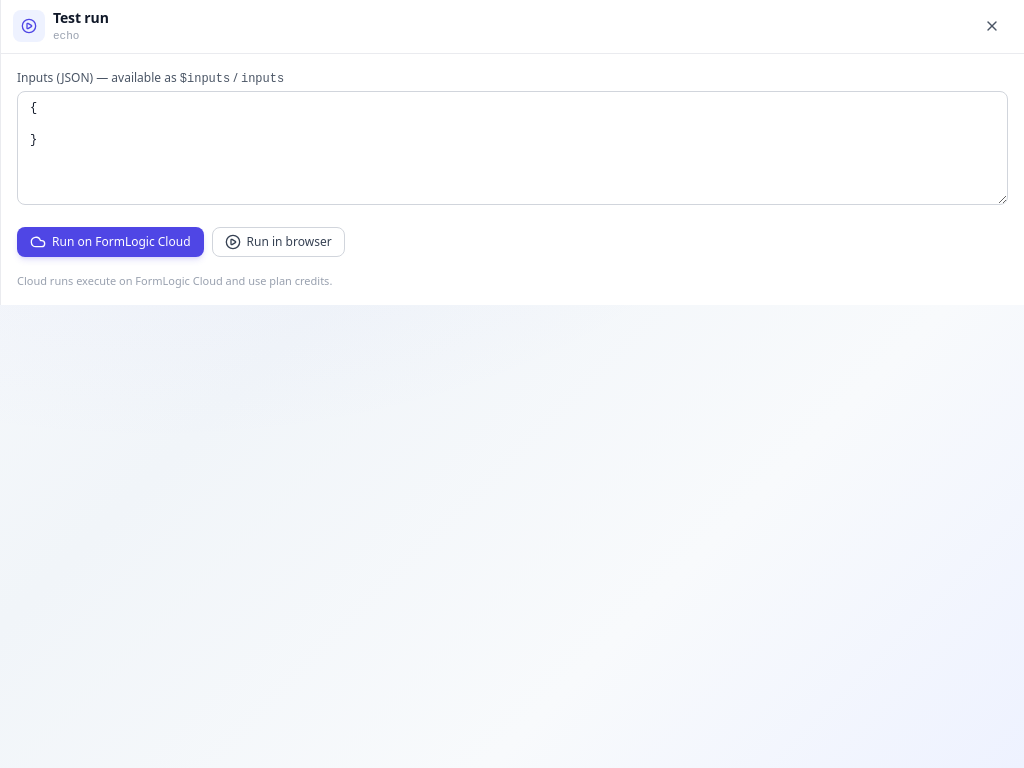
Test: TestRunDrawer — run dispatch per executionLocation › cloud: cloud_unsupported_node names the nodes and forwards the feedback
What coordinates should you click on to do the following:
click the button "Run on FormLogic Cloud"
I would click on:
 (110, 242)
Its box is [17,226,204,256].
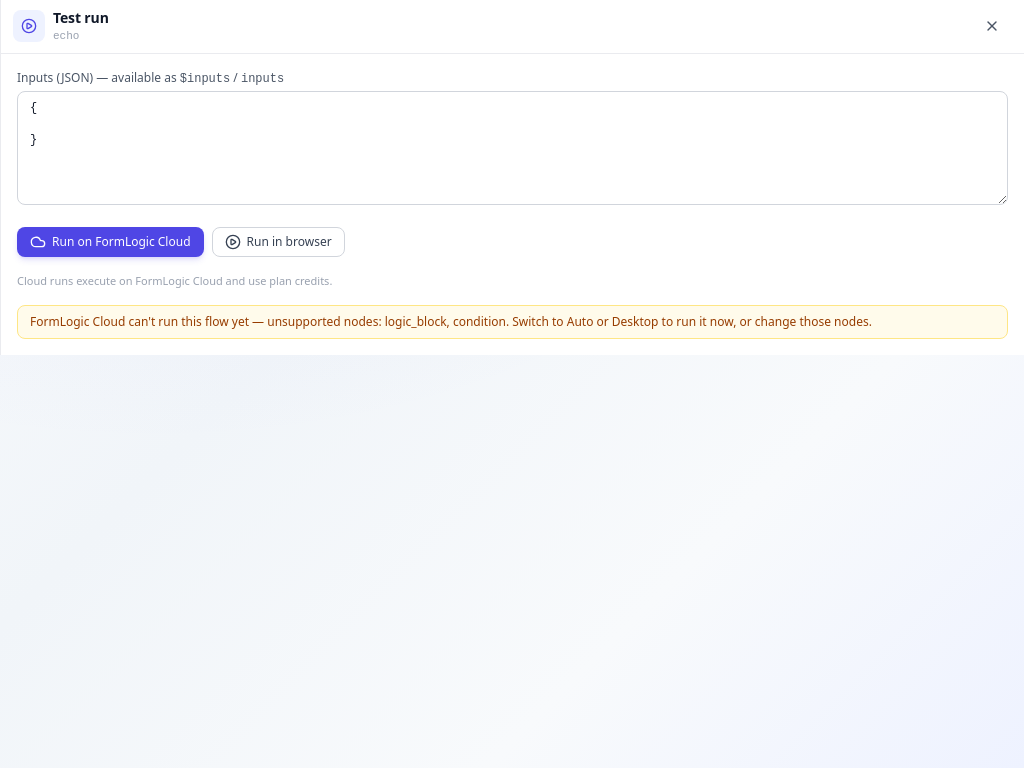
Check: the message is shown, box [17,305,1008,339]
Check: the message shows "logic_block, condition", box [385,313,506,330]
